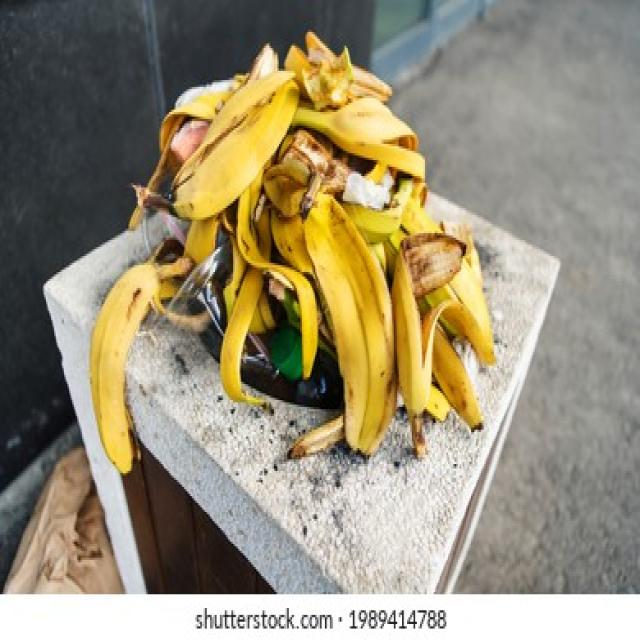banana_peel: (291, 169, 410, 484), (150, 47, 317, 246), (69, 241, 183, 504)
